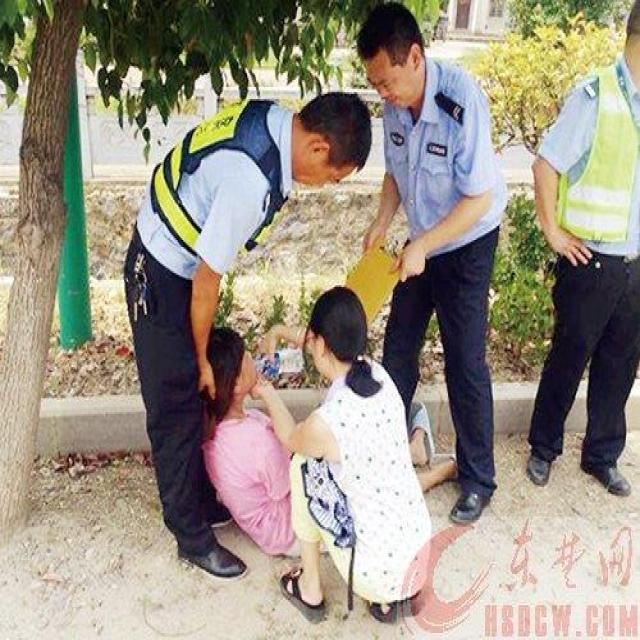fall: (201, 341, 297, 556)
